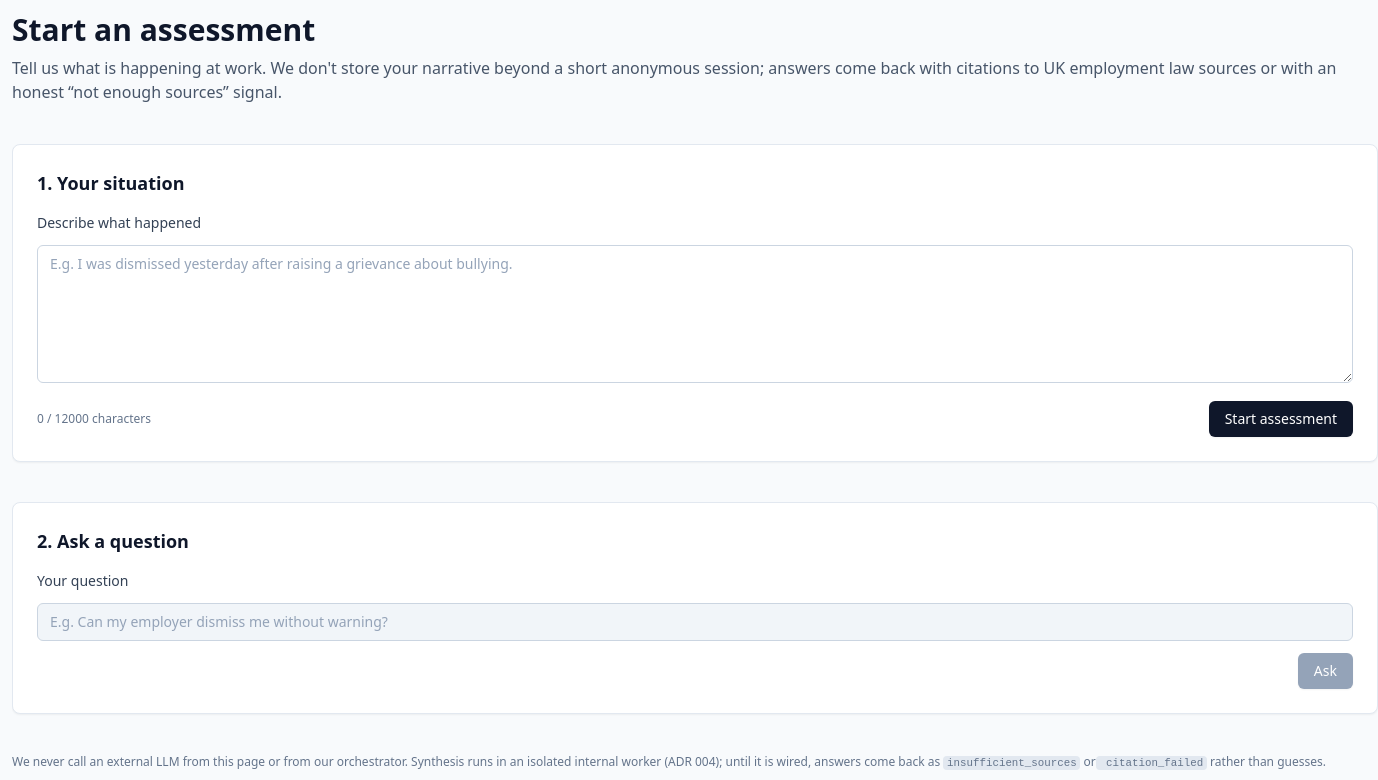
Test: /case/assessment page › creates a case and enables the question form
The width and height of the screenshot is (1378, 780).
Replace the text in the text box labelled "Describe what happened" with "I was dismissed without notice yesterday after raising a grievance about bullying at work last week.": (695, 314) [37,245,1353,383]
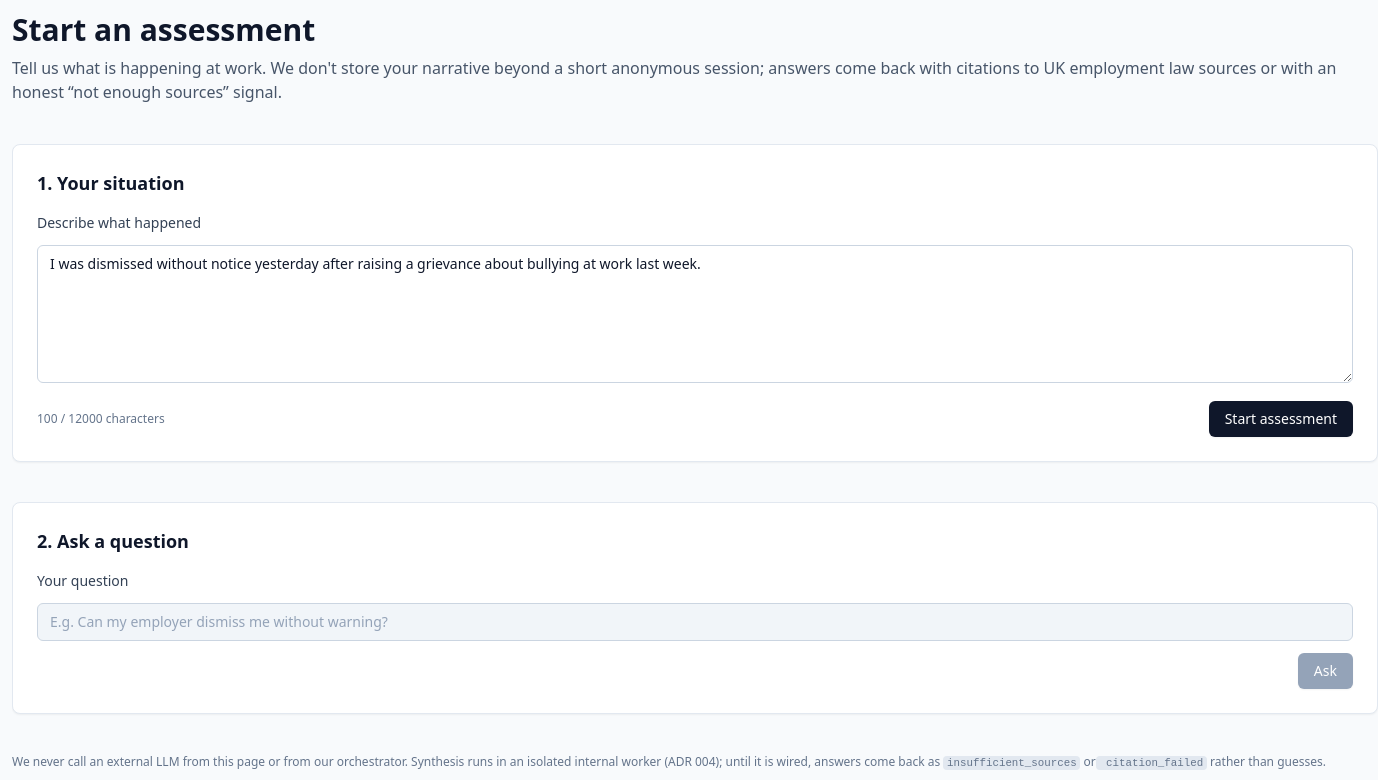
Submit the form labelled "Describe what happened", box [37,213,1353,437]
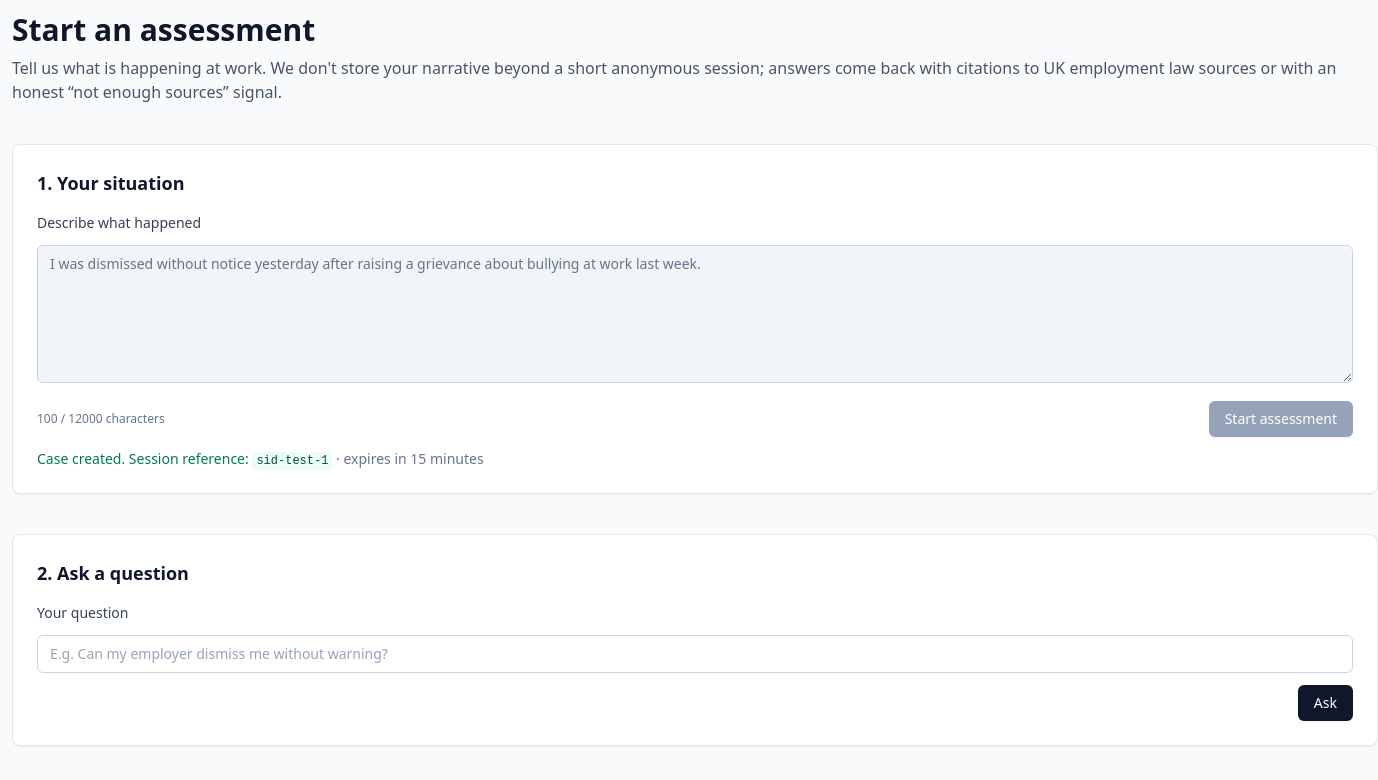
expect the text "Case created" is shown: met, box [37,449,249,468]
expect the text "sid-test-1" is shown: met, box [252,452,332,470]
expect the field labelled "Your question" is enabled: met, box [37,635,1353,673]
